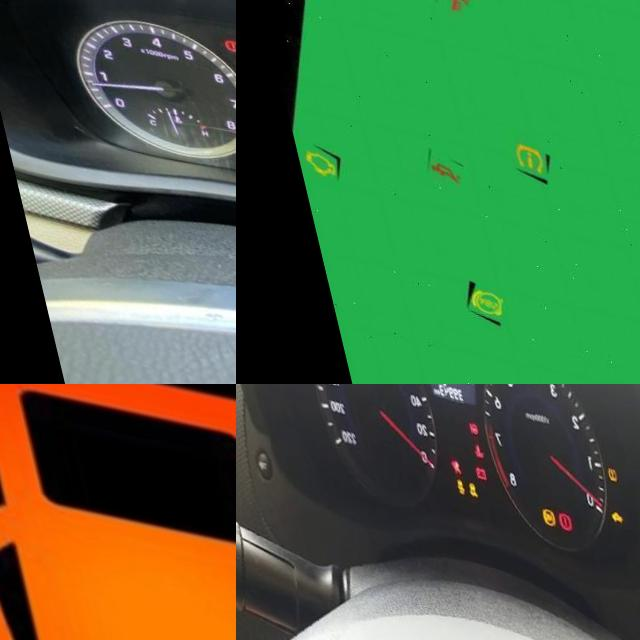Electronic Power Steering: (456, 408, 467, 422)
High Engine Coolant Temperature: (459, 430, 471, 446)
